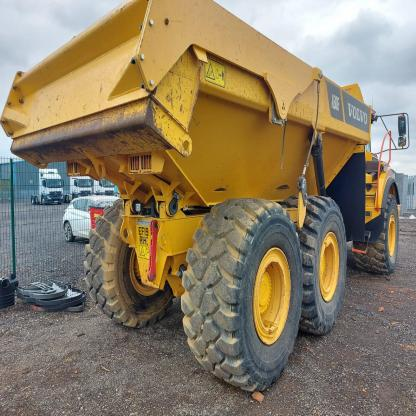dump_truck: (5, 2, 406, 393)
